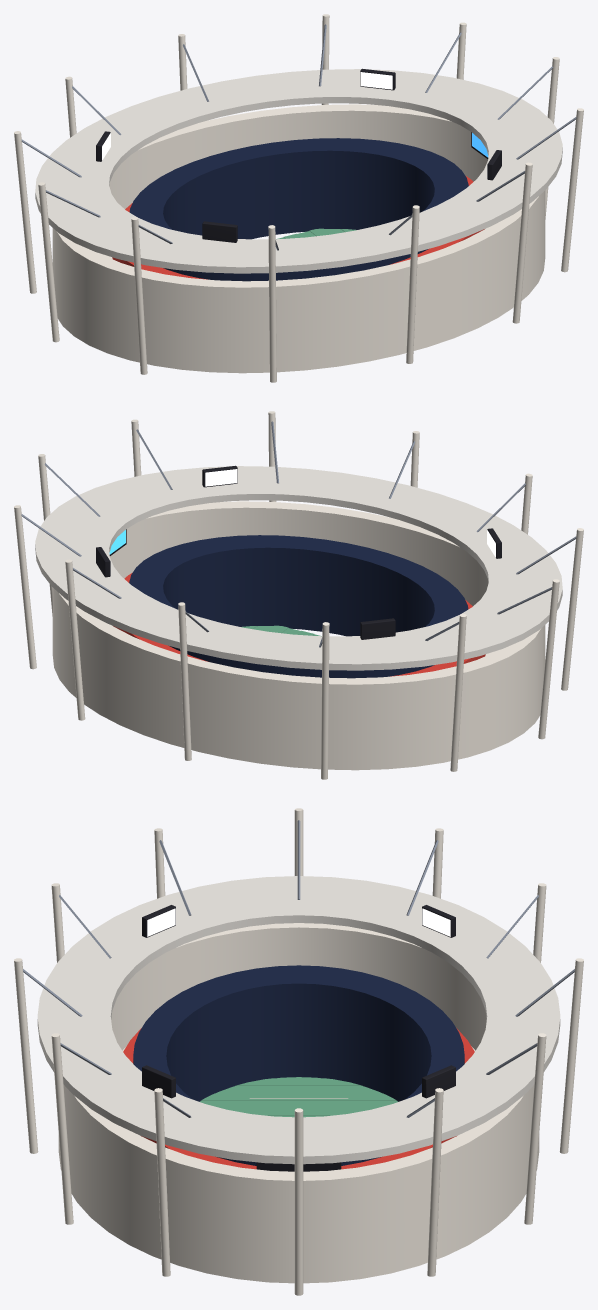
File: stadium.glb
The picture shows the model from 3 angles, top to bottom: view 1: azimuth 30°, elevation 25°; view 2: azimuth 150°, elevation 25°; view 3: azimuth 270°, elevation 25°; orthographic projection. The views are drawn at different scales.
Parts seen in each view (by area): view 1: stadium; view 2: stadium; view 3: stadium.
Part boxes in pixels (bbox=[...]): stadium: bbox=[14, 14, 583, 382]; stadium: bbox=[14, 411, 583, 779]; stadium: bbox=[14, 808, 583, 1295].
Bounding box in the file's own units: 77.41 × 22.84 × 61.3.
1 material, 1 textured.
